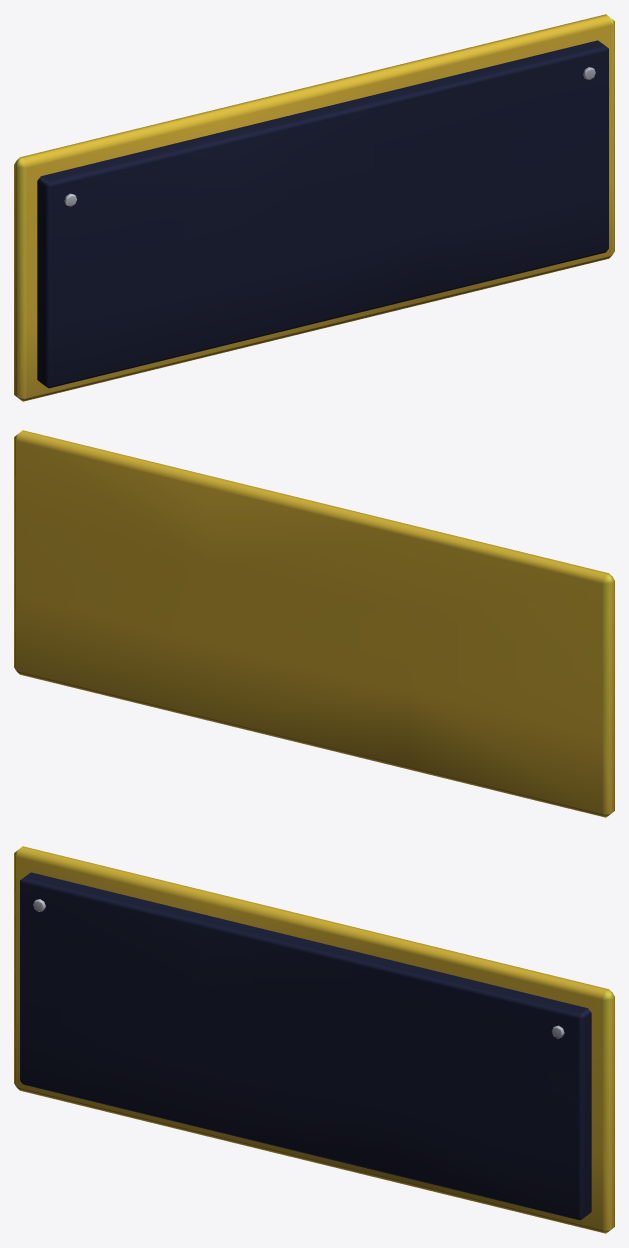
File: SM_Stage4_ProjectionSign.fbx
3 renders of one model, top to bottom at view 1: azimuth 30°, elevation 25°; view 2: azimuth 150°, elevation 25°; view 3: azimuth 330°, elevation 25°, orthographic.
Parts seen in each view (by area): view 1: SM_Stage4_ProjectionSign; view 2: SM_Stage4_ProjectionSign; view 3: SM_Stage4_ProjectionSign.
Boxes of the visible parts, bbox=[...] form: SM_Stage4_ProjectionSign: bbox=[14, 14, 614, 401]; SM_Stage4_ProjectionSign: bbox=[14, 430, 614, 817]; SM_Stage4_ProjectionSign: bbox=[14, 846, 614, 1233].
Bounding box in the file's own units: 212 × 82.04 × 13.35.
